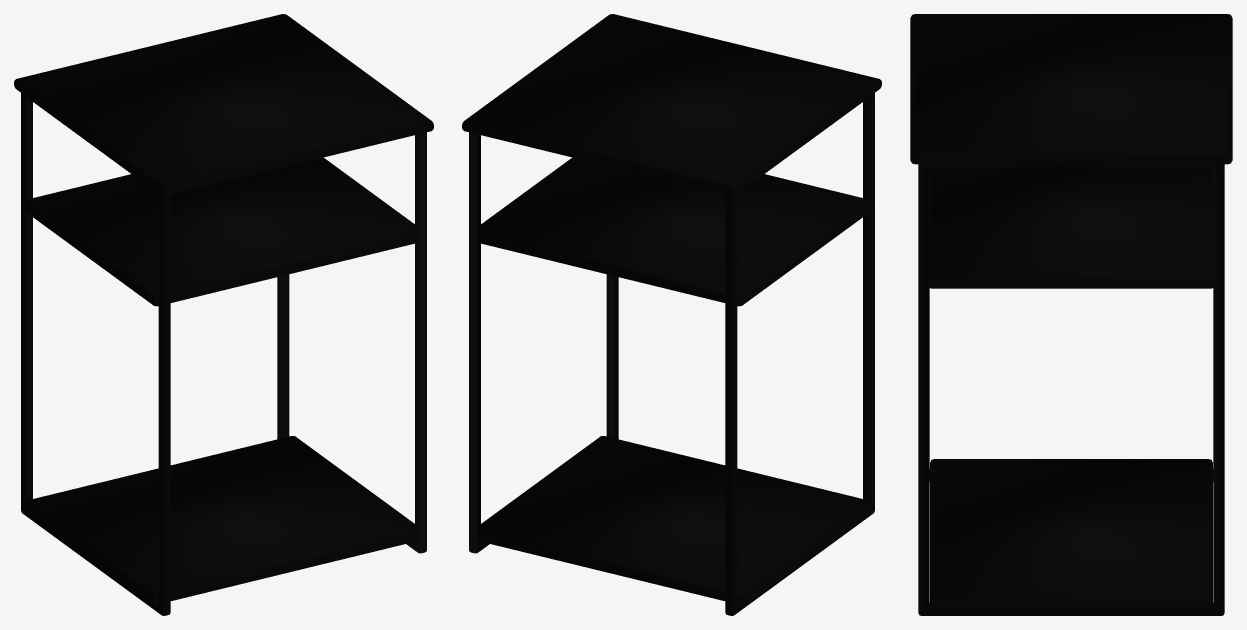
The picture shows the model from 3 angles, left to right: view 1: azimuth 30°, elevation 25°; view 2: azimuth 150°, elevation 25°; view 3: azimuth 270°, elevation 25°; orthographic projection. The views are drawn at different scales.
Visible parts, largest first — view 1: Object001_Object001_mtl_0; view 2: Object001_Object001_mtl_0; view 3: Object001_Object001_mtl_0.
Part boxes in pixels (bbox=[...]): Object001_Object001_mtl_0: bbox=[14, 14, 433, 615]; Object001_Object001_mtl_0: bbox=[462, 14, 881, 615]; Object001_Object001_mtl_0: bbox=[910, 14, 1232, 615].
Size of the model in its own units: 16.95 by 25.71 by 16.17.
1 material, 1 textured.
